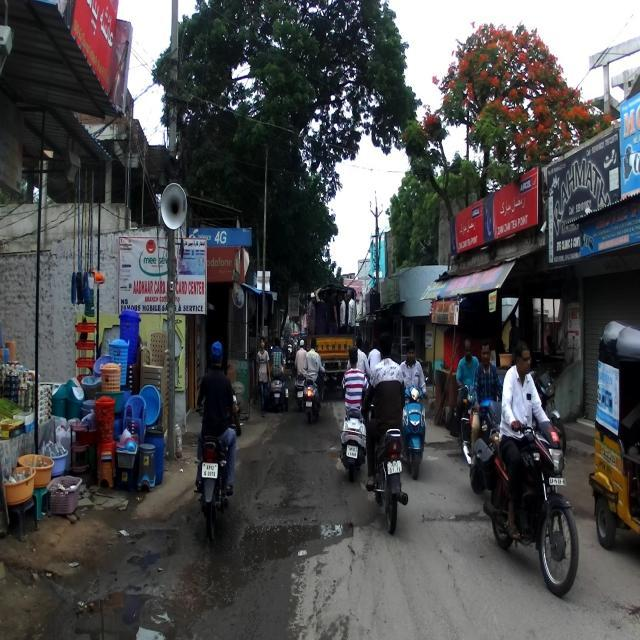pothole: (246, 484, 362, 640), (51, 552, 207, 640), (264, 436, 332, 464), (120, 520, 180, 544)
